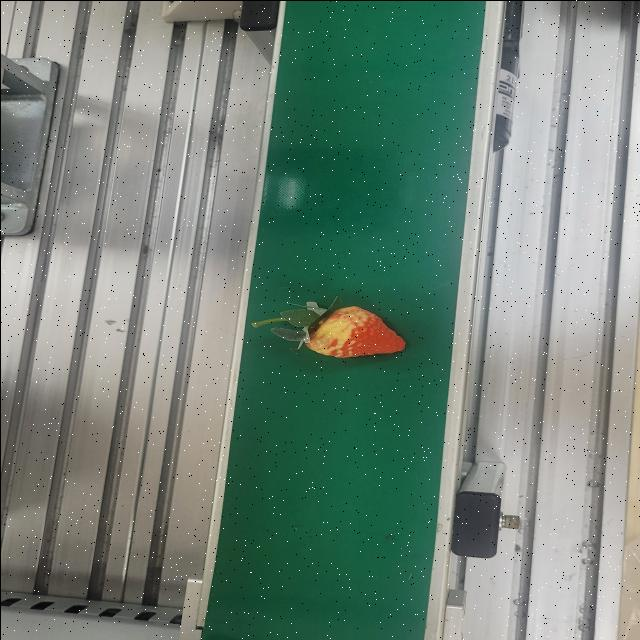Moldy Strawberry: (303, 304, 407, 359)
